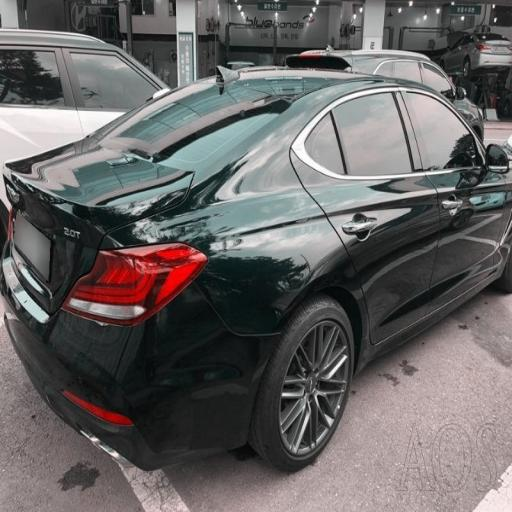dent: (232, 225, 336, 332)
